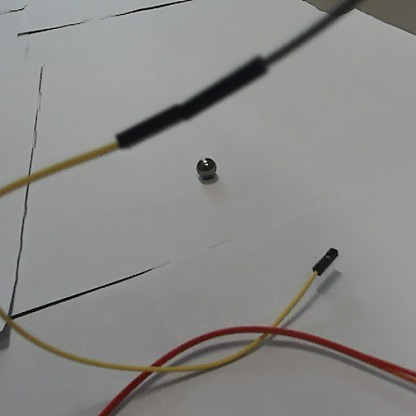ironball: (192, 155, 220, 179)
